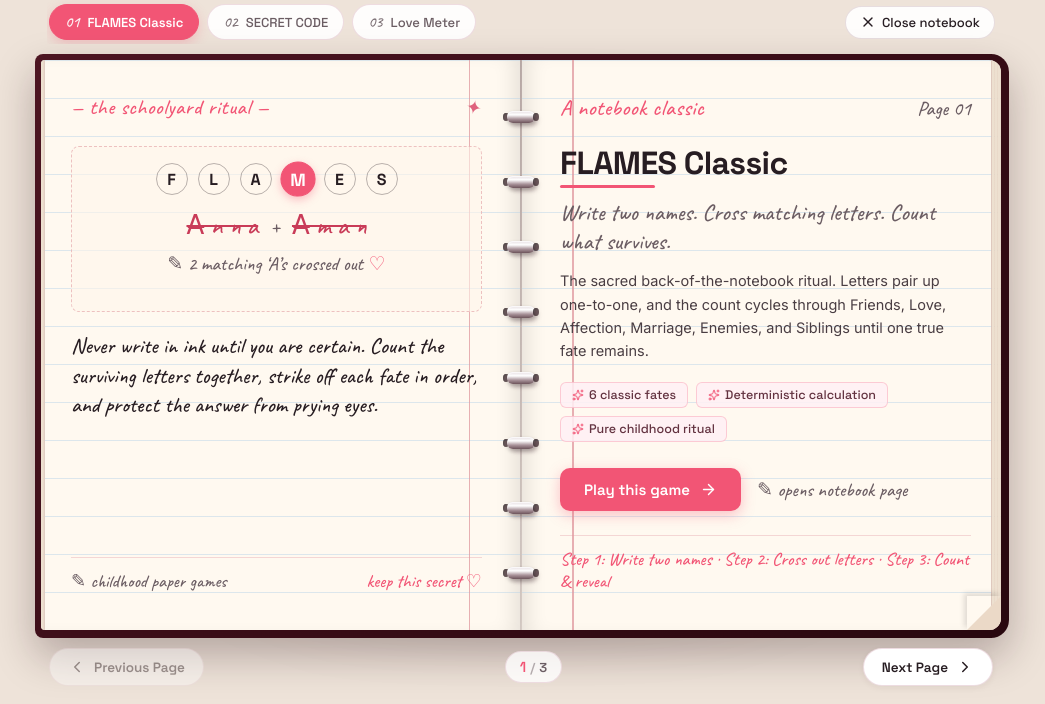
Test: InteractiveNotebook component › allows flipping to next and previous pages using bottom dock controls
Step 1. Click the button with aria-label "Go to next game" → (928, 667), box [863,648,993,686]
Wait 550 ms
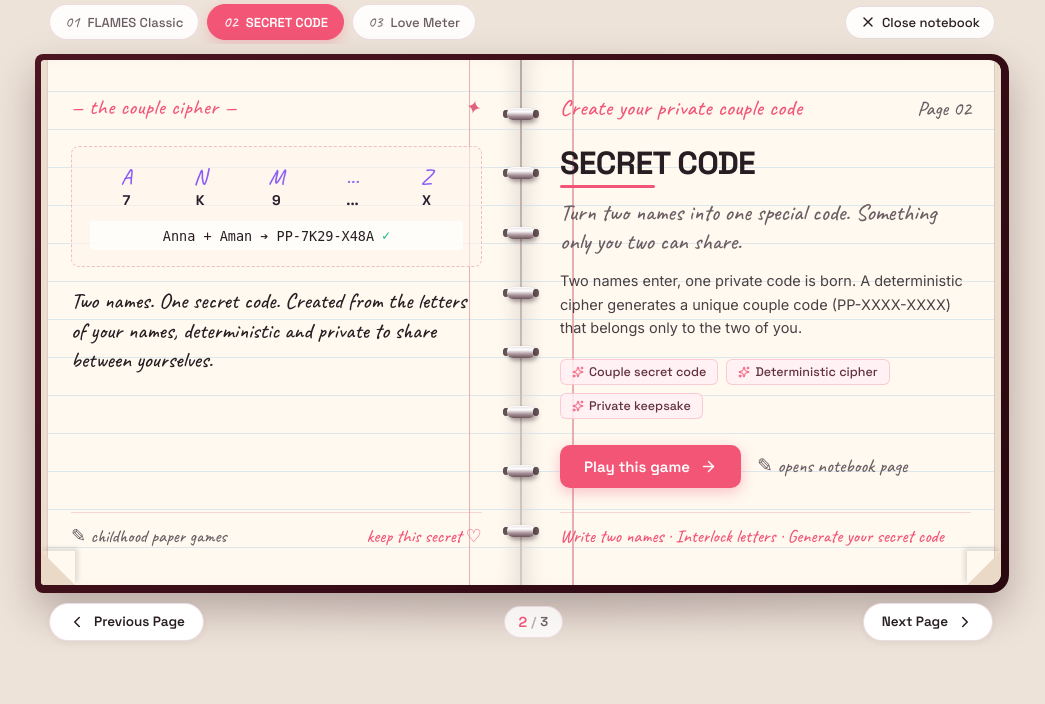
expect the heading "SECRET CODE" is shown: met, box [560,143,755,188]
expect the button with aria-label "Play SECRET CODE" is shown: met, box [560,445,741,488]
Step 2. Click the button with aria-label "Go to previous game" → (126, 622), box [49,603,204,641]
Wait 550 ms
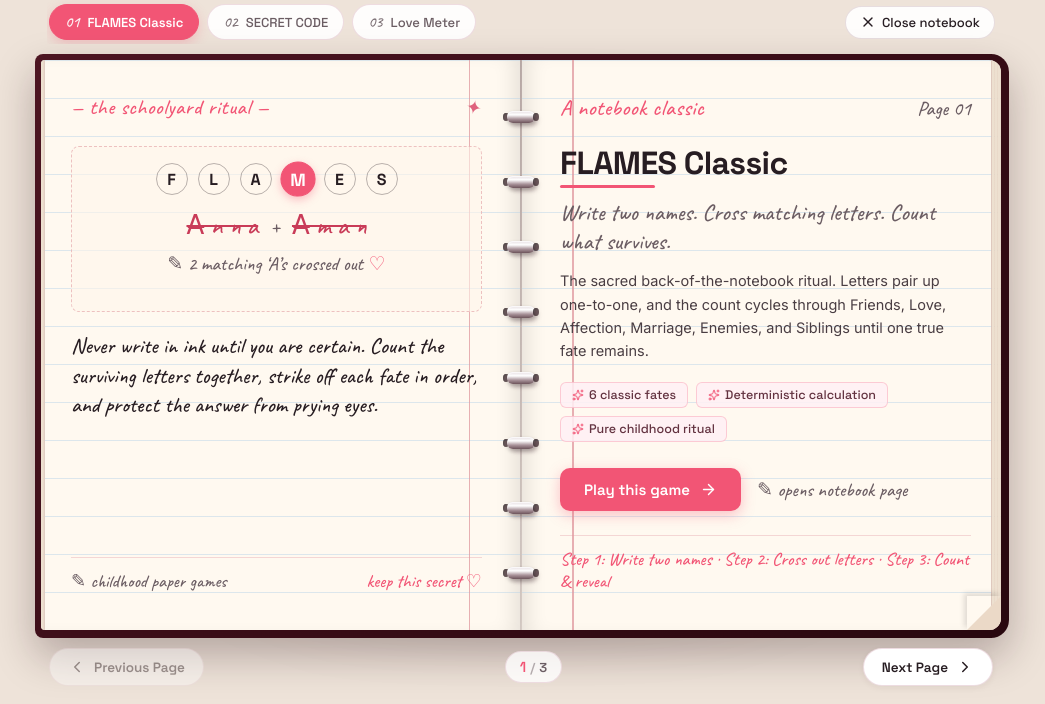
expect the heading "FLAMES Classic" is shown: met, box [560,143,788,188]
